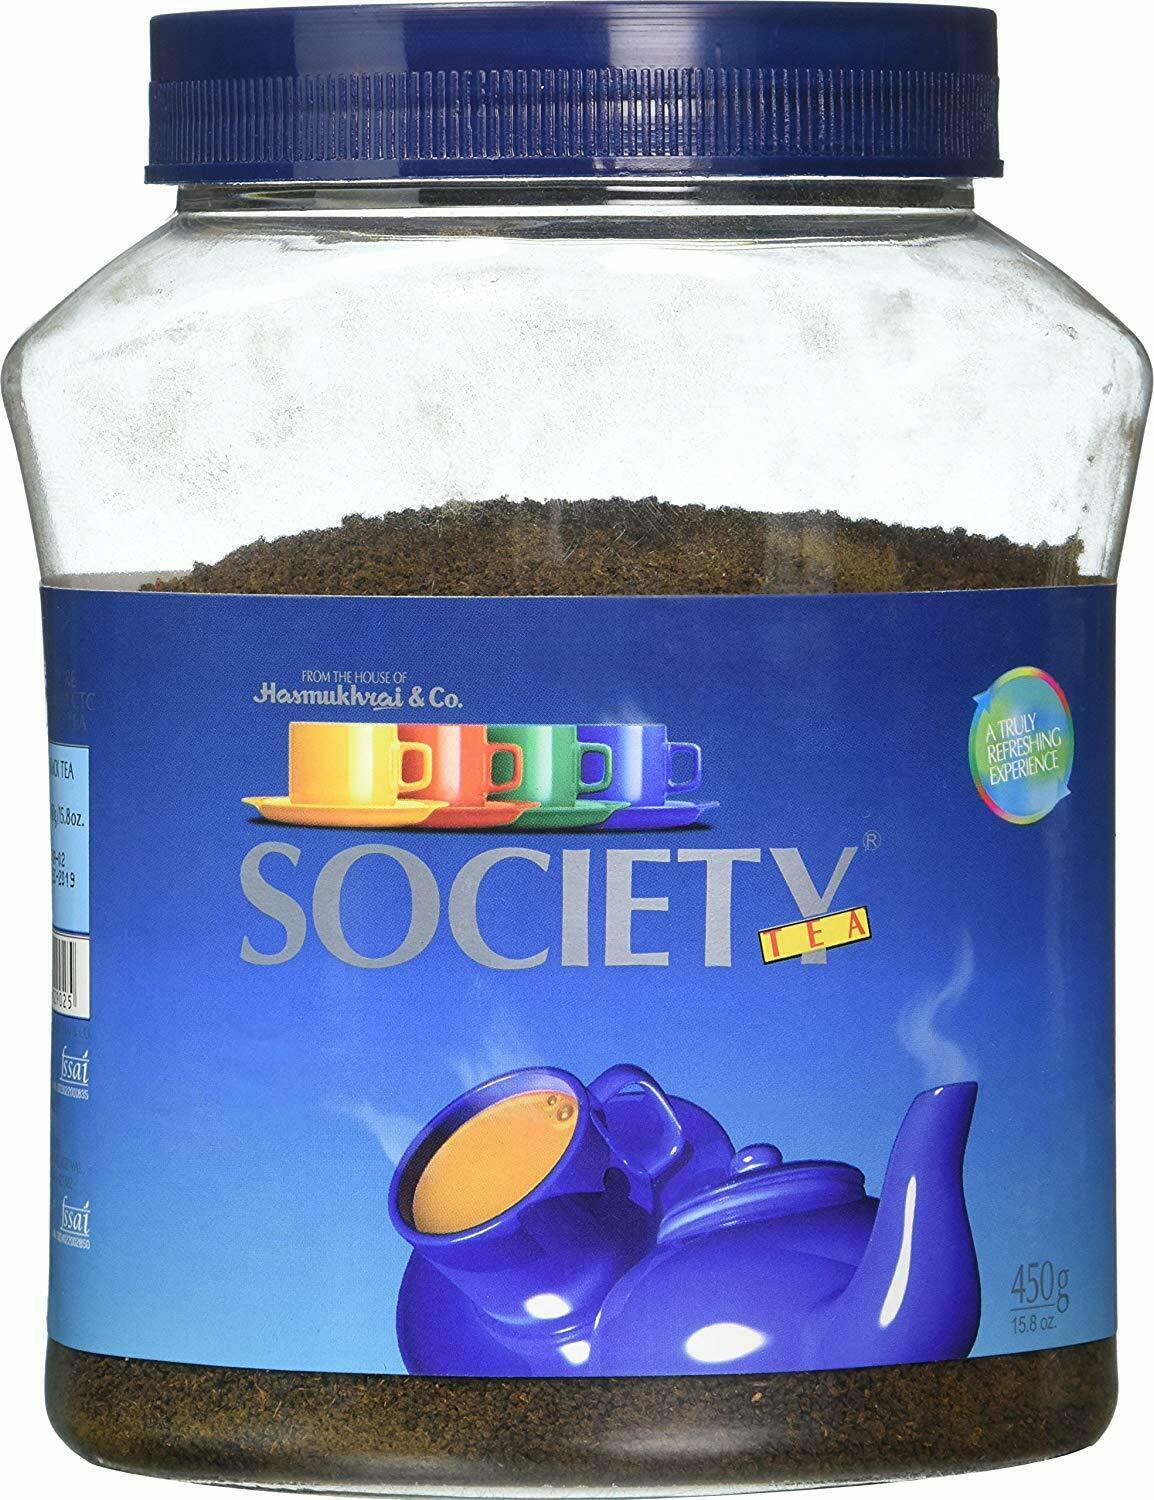society: (7, 565, 1154, 1372)
